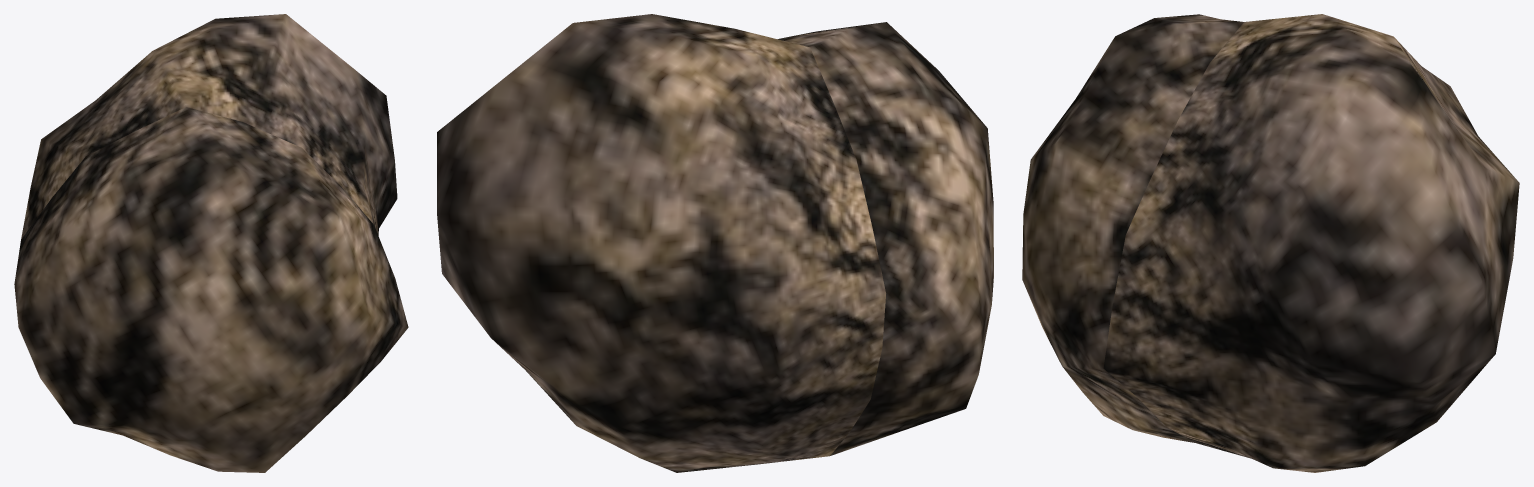
Rendered from asteroid1.fbx.
The picture shows the model from 3 angles, left to right: view 1: azimuth 30°, elevation 25°; view 2: azimuth 150°, elevation 25°; view 3: azimuth 270°, elevation 25°; orthographic projection. The views are drawn at different scales.
Parts seen in each view (by area): view 1: Sphere; view 2: Sphere; view 3: Sphere.
Boxes of the visible parts, box(x1,y1,x2,y2) form: Sphere: box(14, 14, 408, 472); Sphere: box(437, 14, 993, 472); Sphere: box(1022, 14, 1519, 472).
Bounding box in the file's own units: 1.67 × 1.42 × 1.48.
